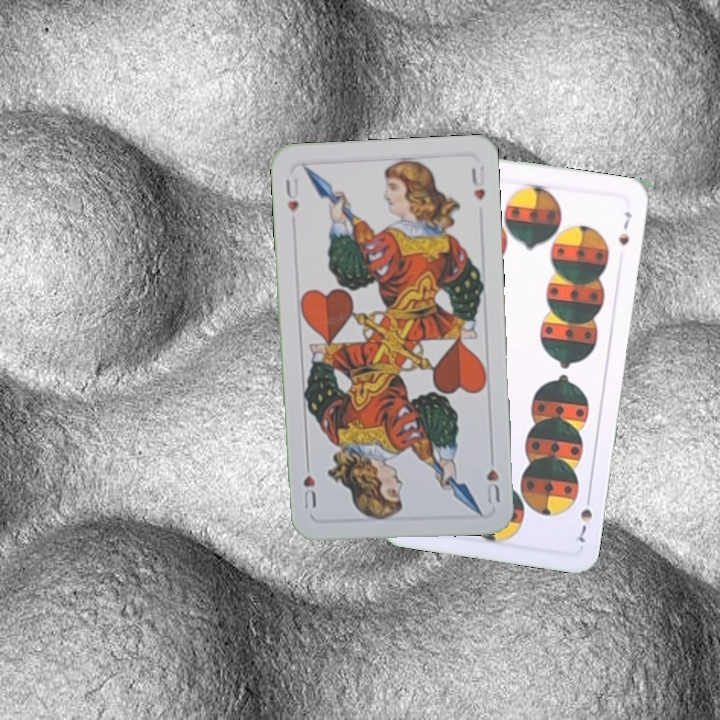HU: (482, 465, 502, 507), (281, 174, 301, 215)
S7: (574, 489, 595, 545)
